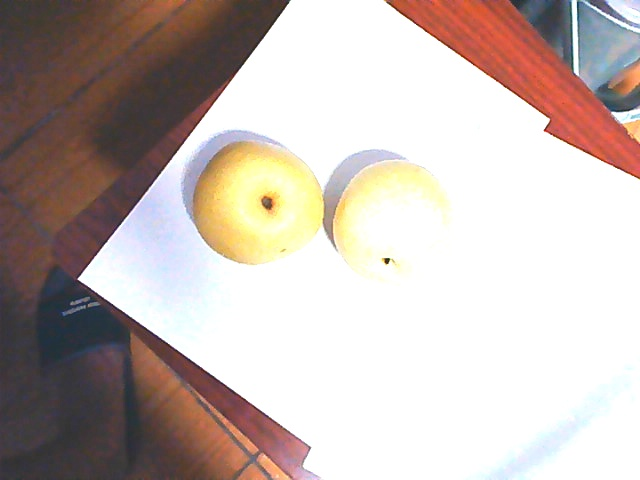pear: (191, 138, 329, 260), (331, 164, 447, 284)
